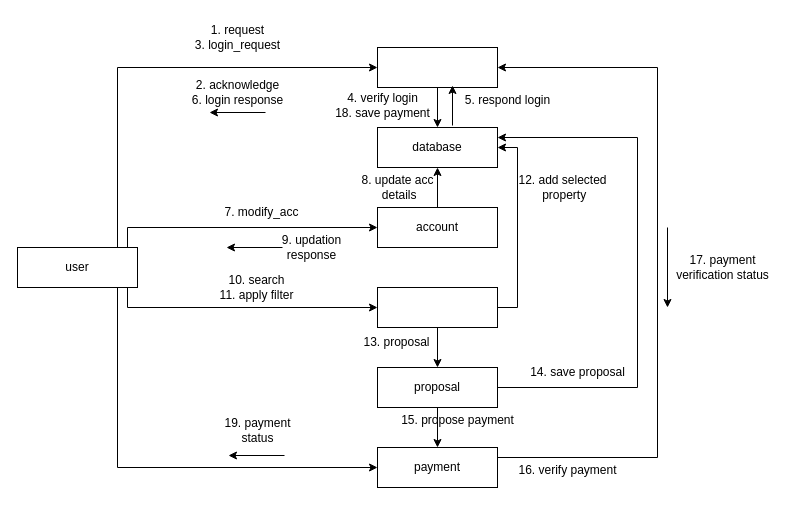
Some shapes in this 795 by 505 pixel diagram are drawn without their labels. Each missing label, with the box of its shape:
search: (376, 286, 498, 328)
server: (376, 46, 498, 88)
